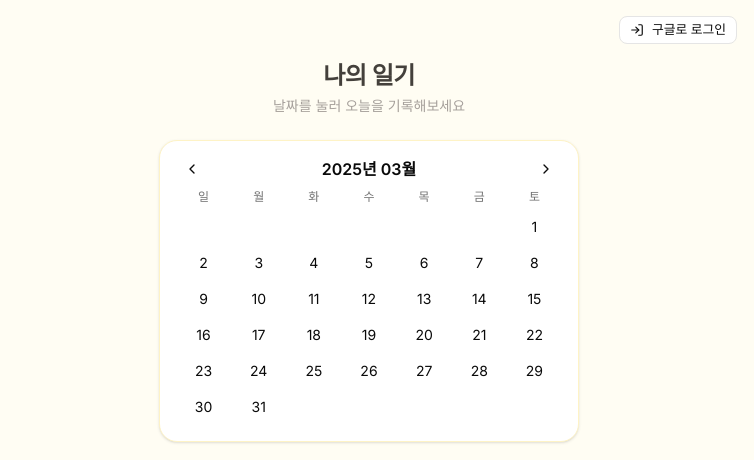
Test: DIARY-004: 로그인 없이 AI 추천 시도 시 로그인 안내 › 로그인하지 않은 상태에서 AI 추천 버튼을 클릭하면 구글 로그인 필요 안내가 표시된다
// 일기 작성 화면으로 이동
Step 1. Click the button "19" → (369, 335), box [353,319,385,351]
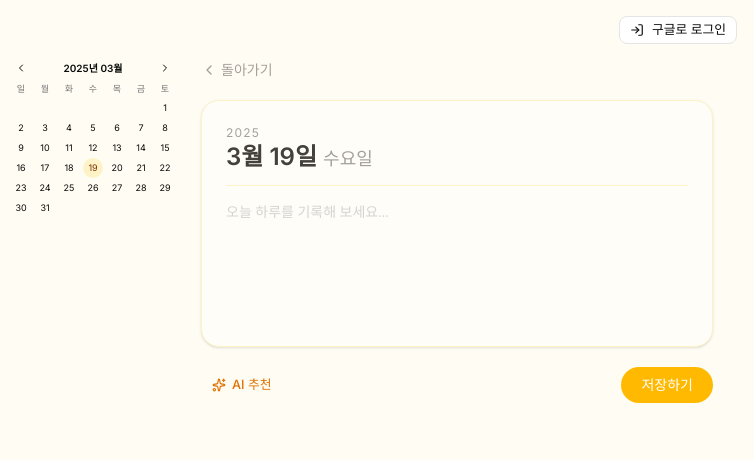
// AI 추천 버튼 클릭
Step 2. Click the button "AI 추천" → (242, 385), box [201,371,282,399]
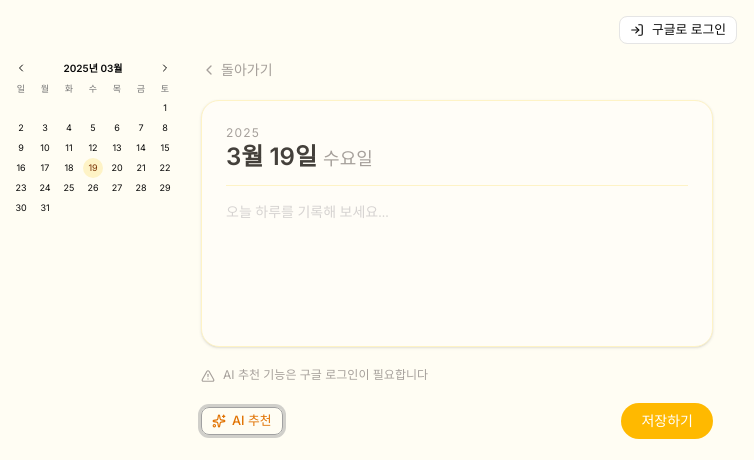
Expected: the text box is empty, [226,202,688,322]
Expected: the text "AI 추천 기능은 구글 로그인이 필요합니다" is shown, [223,367,428,383]
